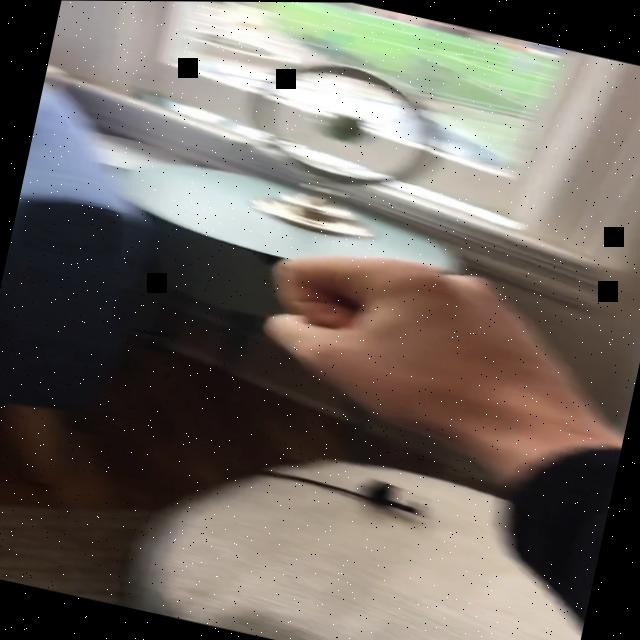Rock: (235, 227, 614, 479)
